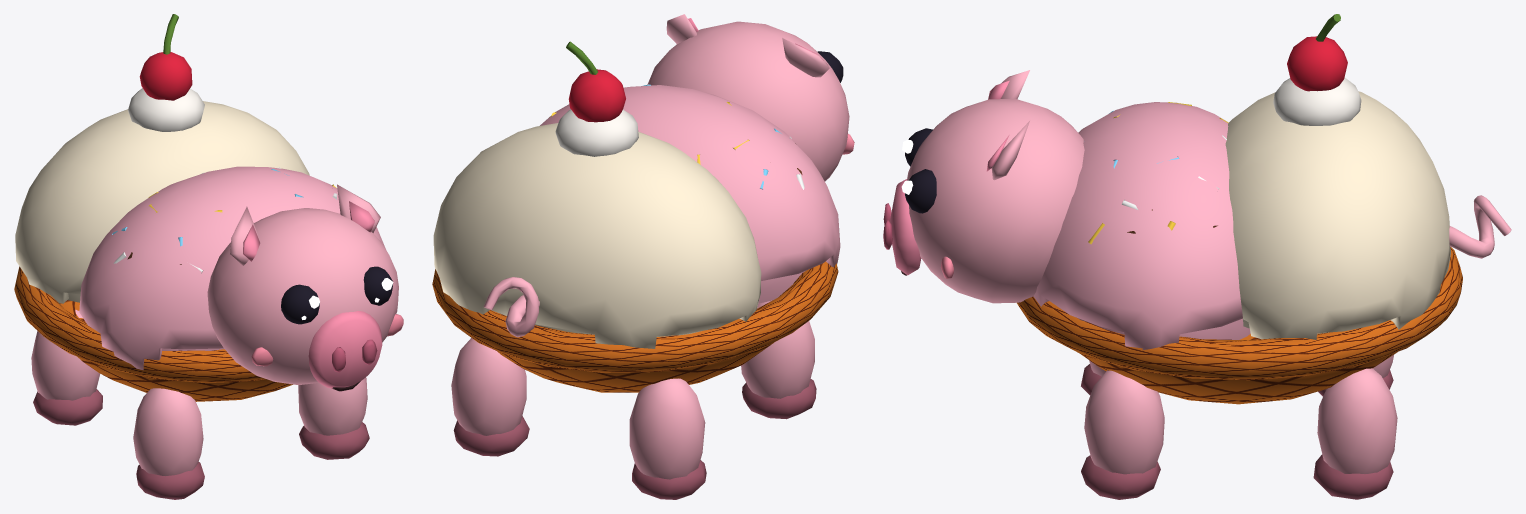
Rendered from pilot_gris_is_lav.glb.
The picture shows the model from 3 angles, left to right: view 1: azimuth 30°, elevation 25°; view 2: azimuth 150°, elevation 25°; view 3: azimuth 270°, elevation 25°; orthographic projection. The views are drawn at different scales.
Parts seen in each view (by area): view 1: kropp, hode, bein_vf, bein_hf, bein_vb; view 2: kropp, hode, bein_vb, bein_hb, bein_vf, hale; view 3: kropp, hode, bein_hb, bein_hf, hale.
Part boxes in pixels (x1,y1,x2,y2): kropp: (14,14,385,401); hode: (207,184,403,391); bein_vf: (133,388,204,499); bein_hf: (298,377,369,459); bein_vb: (31,309,102,425); kropp: (432,41,840,392); hode: (647,14,854,181); bein_vb: (629,378,706,499); bein_hb: (451,338,529,456); bein_vf: (741,300,816,419); hale: (483,277,539,337); kropp: (1017,14,1462,404); hode: (883,70,1084,303); bein_hb: (1313,368,1397,499); bein_hf: (1081,370,1164,499); hale: (1449,195,1511,258).
Size of the model in its own units: 1.04 by 1.22 by 1.57.
Materials: 18 (1 with a texture image).
